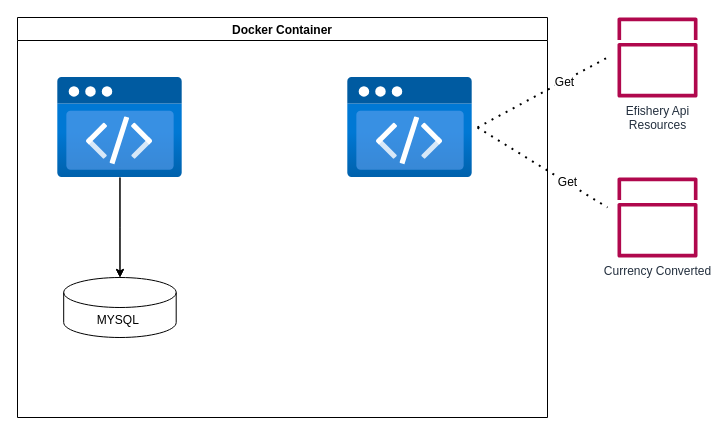
Image size: 728x435. Some labels were removed from this diagram. Here are the shapes that lost their labels. From the top down, the centre of each, then its label:
At (119,127): "AUTH API".
At (409,127): "FETCH API".
